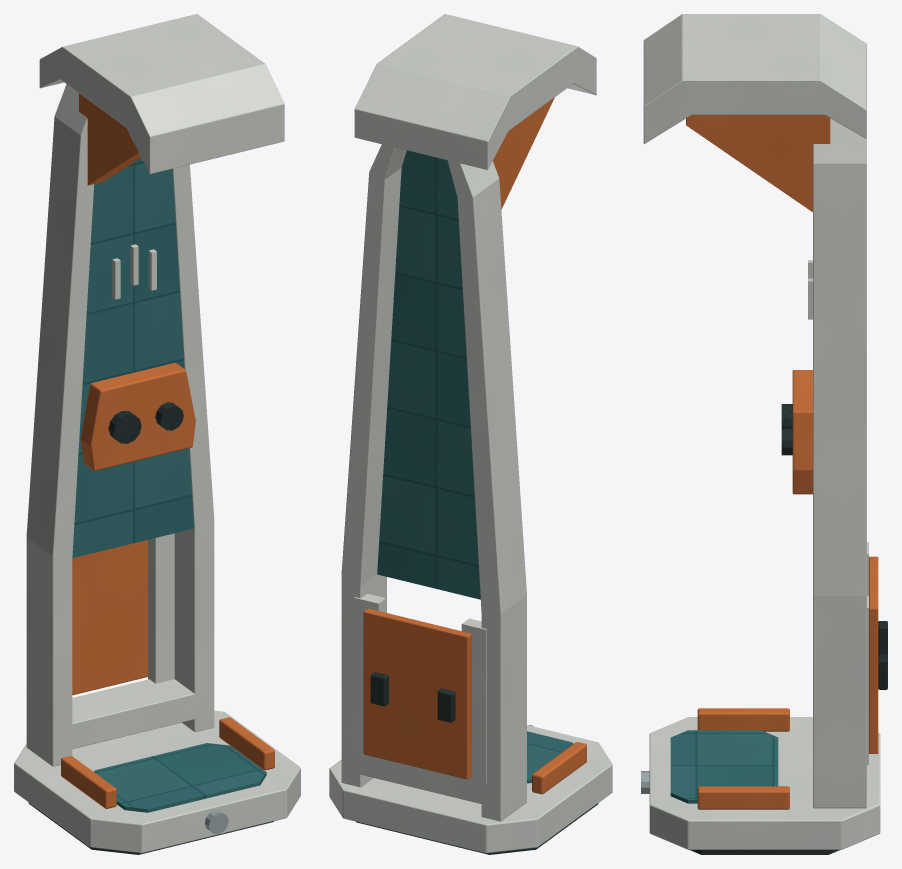
Rendered from AST-AQU-010.glb.
3 views of the same model, side by side, from view 1: azimuth 30°, elevation 25°; view 2: azimuth 150°, elevation 25°; view 3: azimuth 270°, elevation 25° (orthographic). The views are drawn at different scales.
Visible parts, largest first — view 1: AST-AQU-010__body__aquatic_pearl_float, AST-AQU-010__body__aquatic_edge_tile, AST-AQU-010__body__aquatic_orange_float, AST-AQU-010__plate__aquatic_orange_float, AST-AQU-010__body__aquatic_dark_grip; view 2: AST-AQU-010__body__aquatic_pearl_float, AST-AQU-010__body__aquatic_edge_tile, AST-AQU-010__plate__aquatic_orange_float, AST-AQU-010__body__aquatic_orange_float, AST-AQU-010__plate__aquatic_dark_grip; view 3: AST-AQU-010__body__aquatic_pearl_float, AST-AQU-010__body__aquatic_orange_float, AST-AQU-010__body__aquatic_edge_tile, AST-AQU-010__plate__aquatic_orange_float, AST-AQU-010__body__aquatic_dark_grip, AST-AQU-010__plate__aquatic_dark_grip.
Part boxes in pixels (bbox=[...]): AST-AQU-010__body__aquatic_pearl_float: bbox=[14, 14, 300, 853]; AST-AQU-010__body__aquatic_edge_tile: bbox=[72, 157, 266, 812]; AST-AQU-010__body__aquatic_orange_float: bbox=[61, 93, 274, 808]; AST-AQU-010__plate__aquatic_orange_float: bbox=[72, 540, 147, 695]; AST-AQU-010__body__aquatic_dark_grip: bbox=[28, 402, 273, 854]; AST-AQU-010__body__aquatic_pearl_float: bbox=[329, 14, 612, 853]; AST-AQU-010__body__aquatic_edge_tile: bbox=[377, 150, 573, 783]; AST-AQU-010__plate__aquatic_orange_float: bbox=[363, 608, 471, 779]; AST-AQU-010__body__aquatic_orange_float: bbox=[493, 97, 586, 794]; AST-AQU-010__plate__aquatic_dark_grip: bbox=[370, 672, 455, 722]; AST-AQU-010__body__aquatic_pearl_float: bbox=[643, 14, 880, 849]; AST-AQU-010__body__aquatic_orange_float: bbox=[686, 115, 830, 809]; AST-AQU-010__body__aquatic_edge_tile: bbox=[670, 730, 778, 803]; AST-AQU-010__plate__aquatic_orange_float: bbox=[869, 556, 878, 753]; AST-AQU-010__body__aquatic_dark_grip: bbox=[690, 404, 839, 854]; AST-AQU-010__plate__aquatic_dark_grip: bbox=[878, 621, 887, 689].
Size of the model in its own units: 0.64 by 2.18 by 0.6415.
5 materials, 5 textured.
